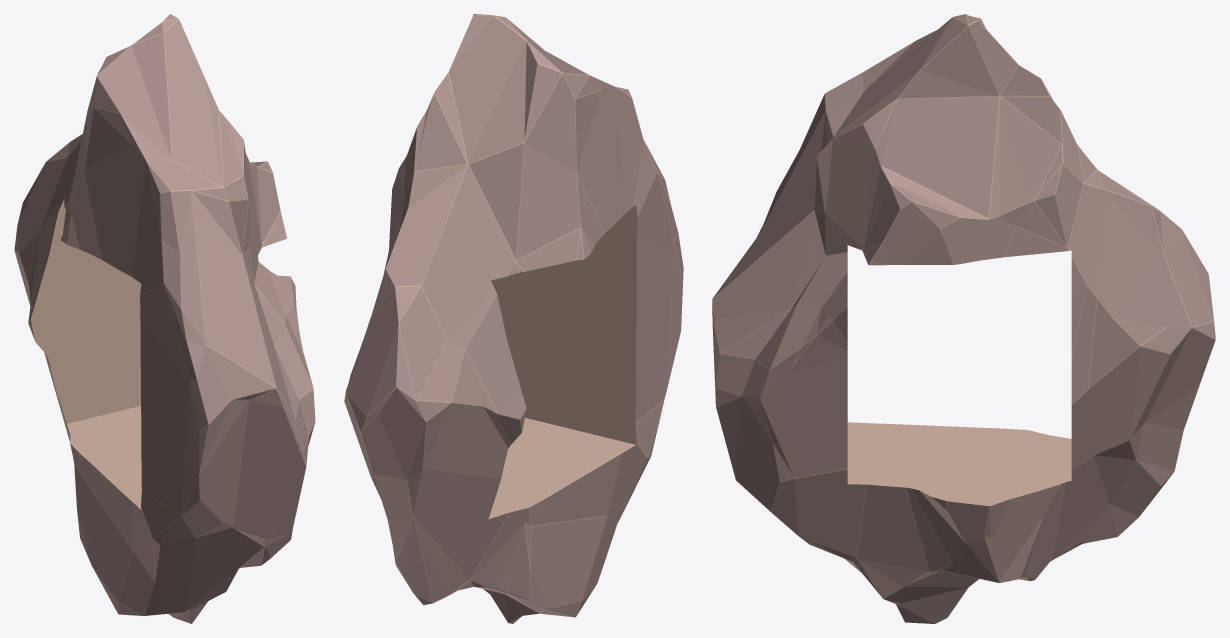
The model's file is rock1.glb.
The picture shows the model from 3 angles, left to right: view 1: azimuth 30°, elevation 25°; view 2: azimuth 150°, elevation 25°; view 3: azimuth 270°, elevation 25°; orthographic projection. The views are drawn at different scales.
Parts seen in each view (by area): view 1: Cube.028; view 2: Cube.028; view 3: Cube.028.
Part boxes in pixels (x1=…): Cube.028: x1=14, y1=14, x2=315, y2=623; Cube.028: x1=344, y1=14, x2=683, y2=623; Cube.028: x1=712, y1=14, x2=1215, y2=623.
Bounding box in the file's own units: 1.17 × 3.62 × 2.7.
